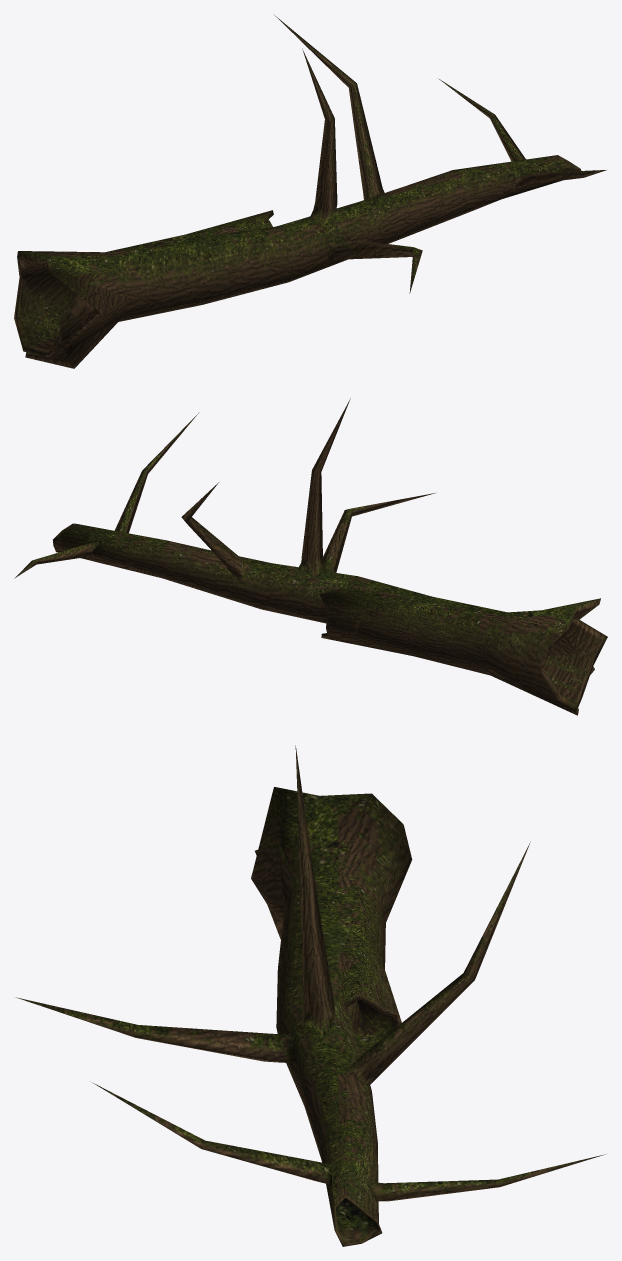
File: deadwood.glb
The picture shows the model from 3 angles, top to bottom: view 1: azimuth 30°, elevation 25°; view 2: azimuth 150°, elevation 25°; view 3: azimuth 270°, elevation 25°; orthographic projection. The views are drawn at different scales.
Parts seen in each view (by area): view 1: OakBreakA, OakBreakB; view 2: OakBreakA, OakBreakB; view 3: OakBreakA, OakBreakB.
Part boxes in pixels (bbox=[...]): OakBreakA: bbox=[14, 15, 606, 357]; OakBreakB: bbox=[17, 210, 273, 368]; OakBreakA: bbox=[14, 398, 607, 712]; OakBreakB: bbox=[319, 588, 600, 715]; OakBreakA: bbox=[16, 745, 605, 1246]; OakBreakB: bbox=[251, 787, 402, 1054].
Size of the model in its own units: 16.71 by 7.54 by 10.97.
Materials: 1 (1 with a texture image).
